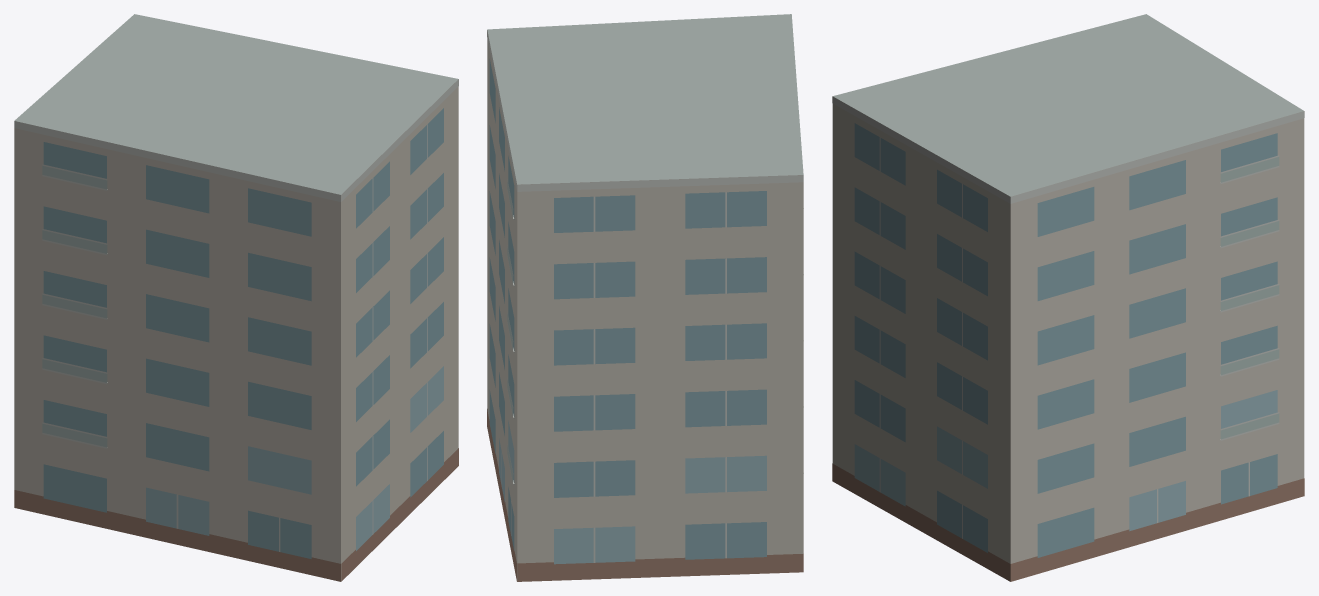
The model's file is survey-upis-32885021.glb.
The picture shows the model from 3 angles, left to right: view 1: azimuth 30°, elevation 25°; view 2: azimuth 150°, elevation 25°; view 3: azimuth 270°, elevation 25°; orthographic projection. The views are drawn at different scales.
Visible parts, largest first — view 1: survey-upis-32885021.tmp; view 2: survey-upis-32885021.tmp; view 3: survey-upis-32885021.tmp.
Part boxes in pixels (left/top/right/bottom): survey-upis-32885021.tmp: left=14, top=14, right=458, bottom=581; survey-upis-32885021.tmp: left=487, top=14, right=803, bottom=581; survey-upis-32885021.tmp: left=832, top=14, right=1304, bottom=581.
Size of the model in its own units: 13.34 by 13.1 by 14.56.
